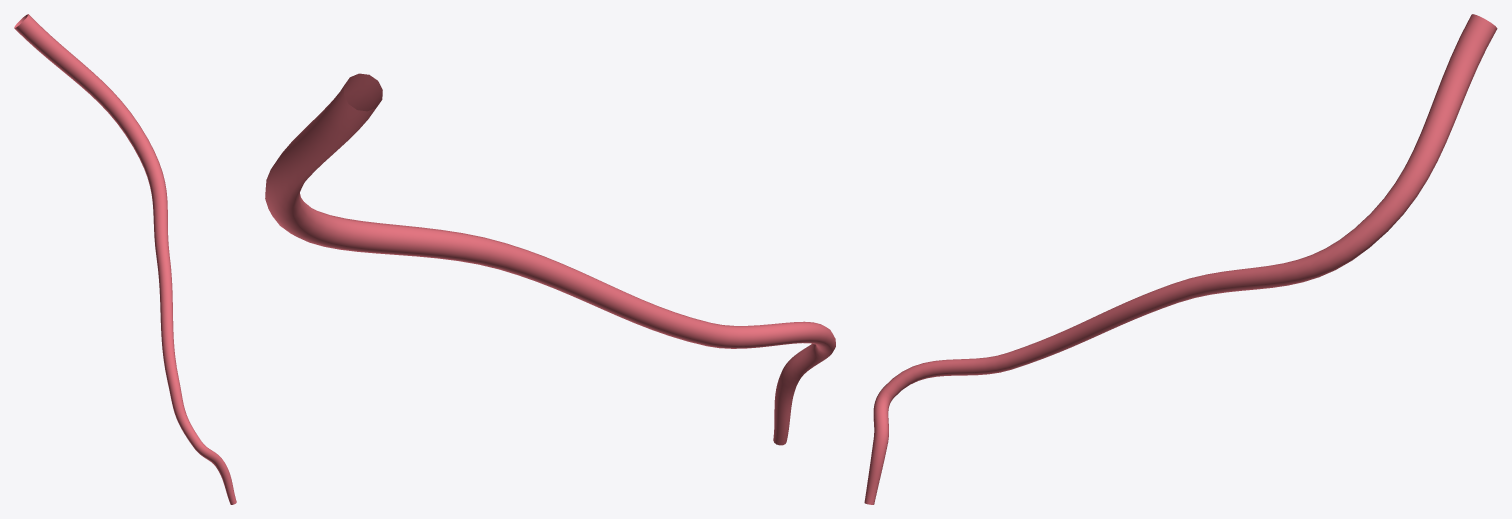
The picture shows the model from 3 angles, left to right: view 1: azimuth 30°, elevation 25°; view 2: azimuth 150°, elevation 25°; view 3: azimuth 270°, elevation 25°; orthographic projection. The views are drawn at different scales.
Visible parts, largest first — view 1: ZA_416488336c989974; view 2: ZA_416488336c989974; view 3: ZA_416488336c989974.
Part boxes in pixels (<box>): ZA_416488336c989974: <box>14,14,236,504</box>; ZA_416488336c989974: <box>265,73,835,445</box>; ZA_416488336c989974: <box>864,14,1497,504</box>.
Bounding box in the file's own units: 0.0163 × 0.0436 × 0.0509.
